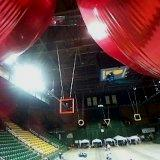Orange_Square_GShape: (59, 98, 74, 114)
Yellow_Circle_GShape: (78, 119, 84, 126)
Yellow_Square_GShape: (134, 114, 142, 122)
Yellow_Triangle_Gshape: (103, 119, 111, 125)
